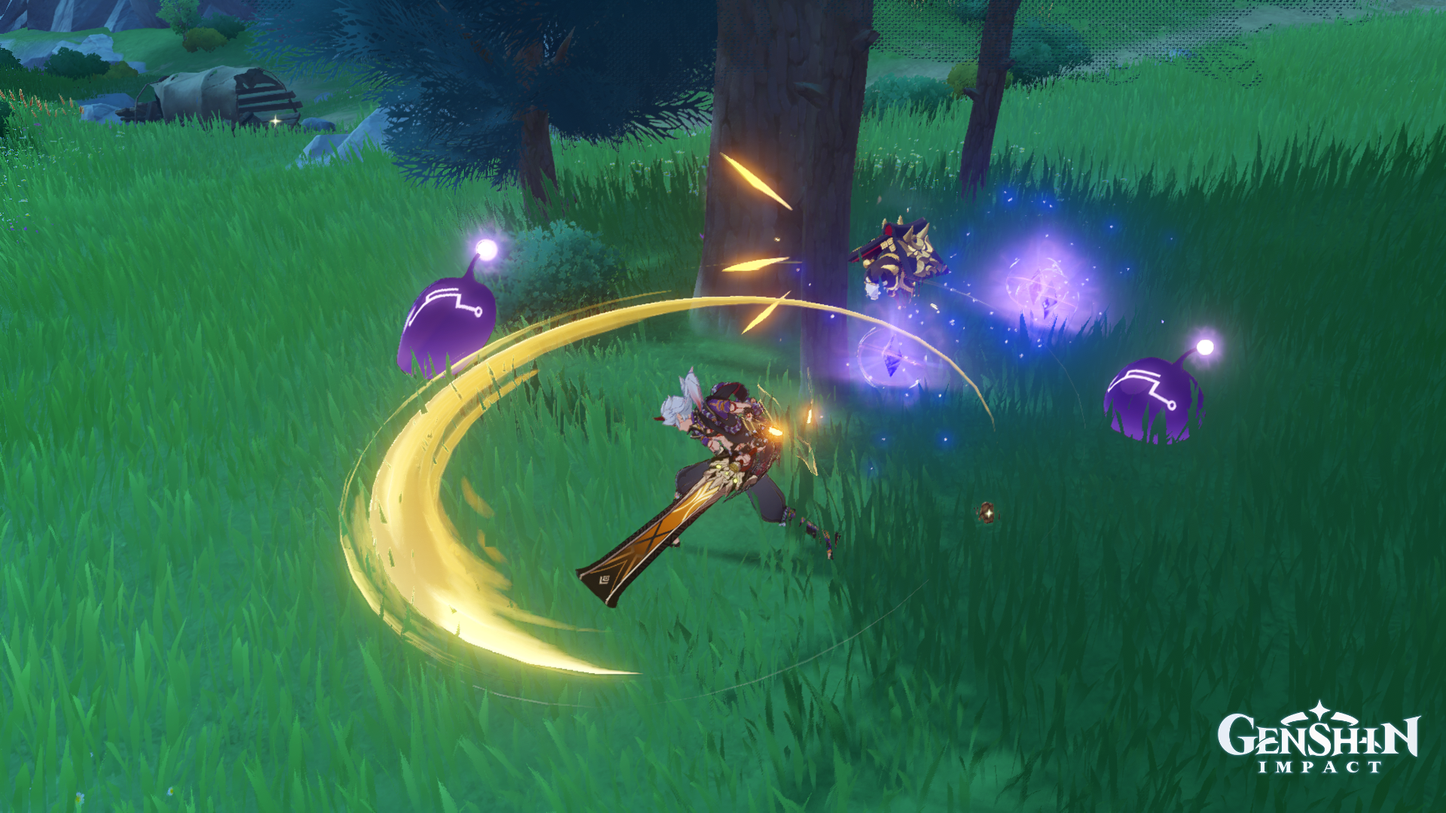Animal: (852, 228, 951, 304)
Human: (638, 370, 834, 545)
Monster: (1096, 330, 1222, 445), (394, 244, 488, 375)
Tree: (333, 2, 675, 241), (694, 0, 869, 338), (936, 0, 1053, 196)
